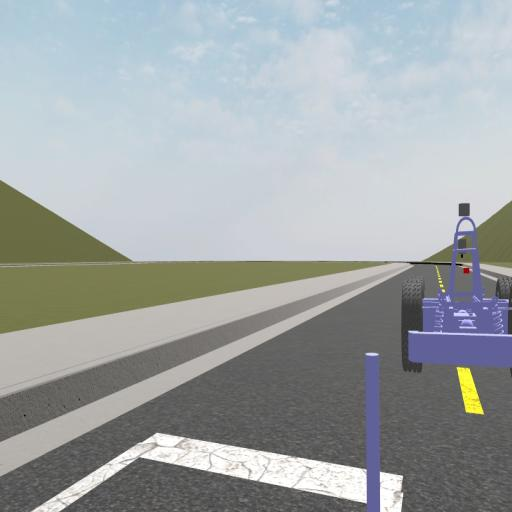ERP-42: (401, 203, 510, 375)
